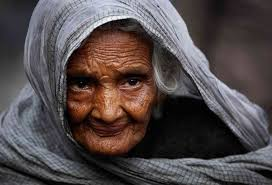indian_female: (35, 1, 170, 170)
